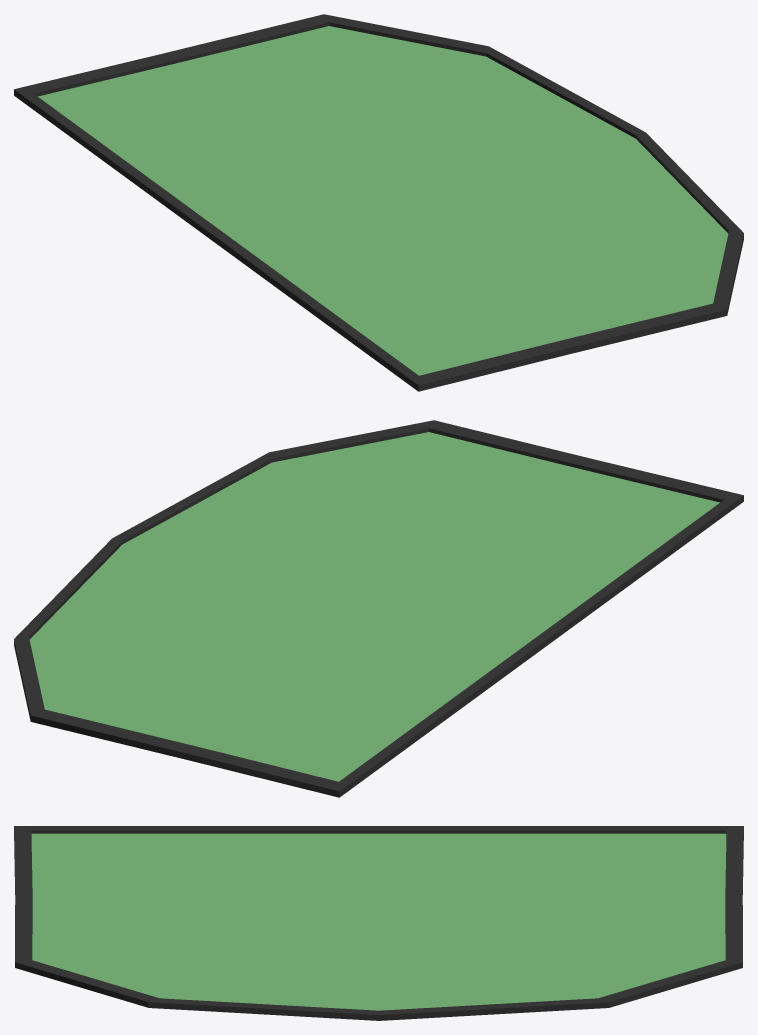
The model's file is tableMat.fbx.
3 views of the same model, one above another, from view 1: azimuth 30°, elevation 25°; view 2: azimuth 150°, elevation 25°; view 3: azimuth 270°, elevation 25° (orthographic). The views are drawn at different scales.
Parts seen in each view (by area): view 1: placeMat; view 2: placeMat; view 3: placeMat.
Part boxes in pixels (bbox=[...]): placeMat: bbox=[14, 14, 743, 391]; placeMat: bbox=[14, 420, 743, 797]; placeMat: bbox=[14, 826, 743, 1020].
Size of the model in its own units: 0.2875 by 0.00409 by 0.4688.
